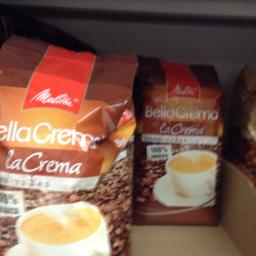coffee: (0, 38, 135, 252), (134, 57, 224, 223)
